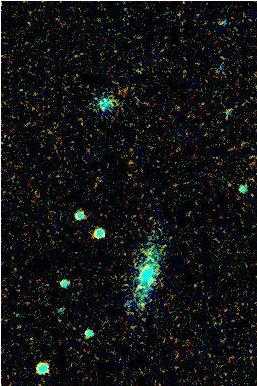star: (126, 291, 156, 321)
